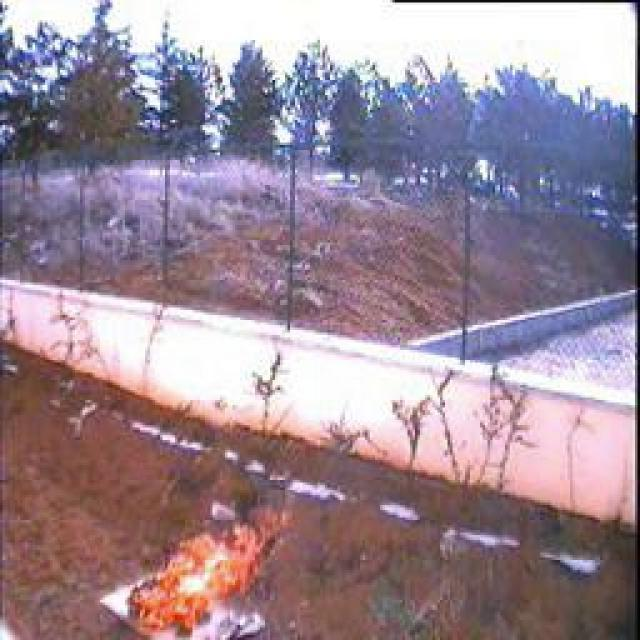Fire: (126, 492, 296, 637)
